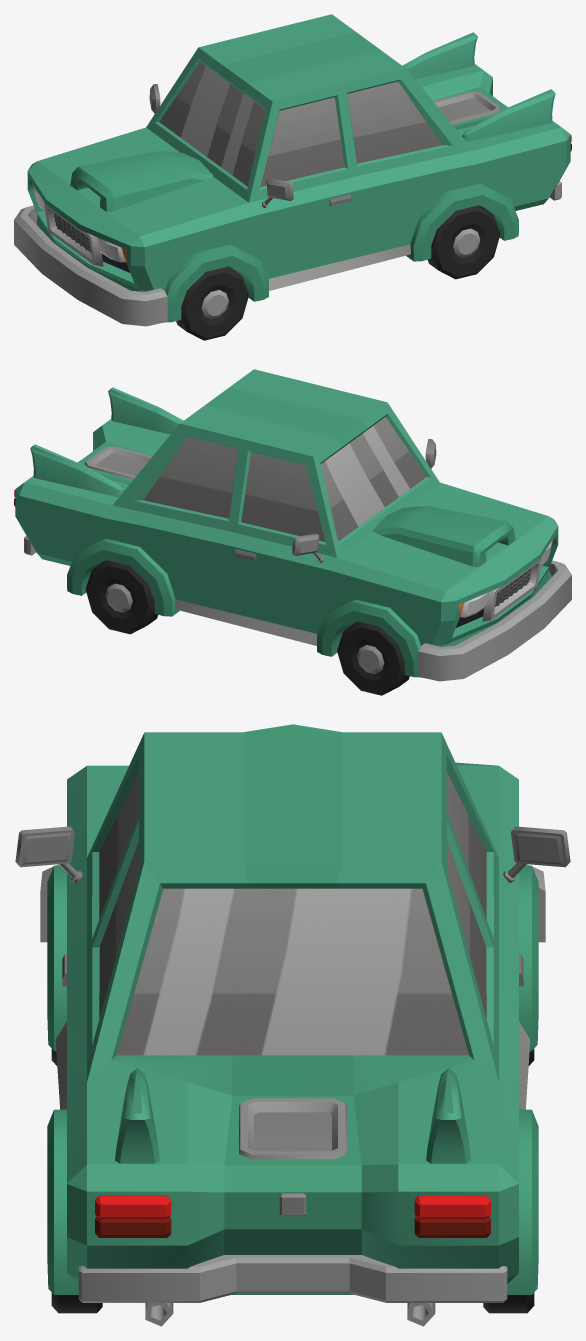
The model's file is Car_10_K.fbx.
3 views of the same model, one above another, from view 1: azimuth 30°, elevation 25°; view 2: azimuth 150°, elevation 25°; view 3: azimuth 270°, elevation 25° (orthographic). The views are drawn at different scales.
Visible parts, largest first — view 1: Car_10_K, RL, FL; view 2: Car_10_K, RR, FR; view 3: Car_10_K, RL, RR.
Boxes of the visible parts, x1=… form: Car_10_K: x1=14, y1=14, x2=571, y2=326; RL: x1=428, y1=205, x2=500, y2=279; FL: x1=176, y1=266, x2=248, y2=340; Car_10_K: x1=14, y1=369, x2=571, y2=681; RR: x1=85, y1=560, x2=157, y2=634; FR: x1=337, y1=621, x2=409, y2=695; Car_10_K: x1=15, y1=724, x2=570, y2=1326; RL: x1=51, y1=1293, x2=102, y2=1313; RR: x1=483, y1=1293, x2=534, y2=1313.
Size of the model in its own units: 3.58 by 1.49 by 1.85.
